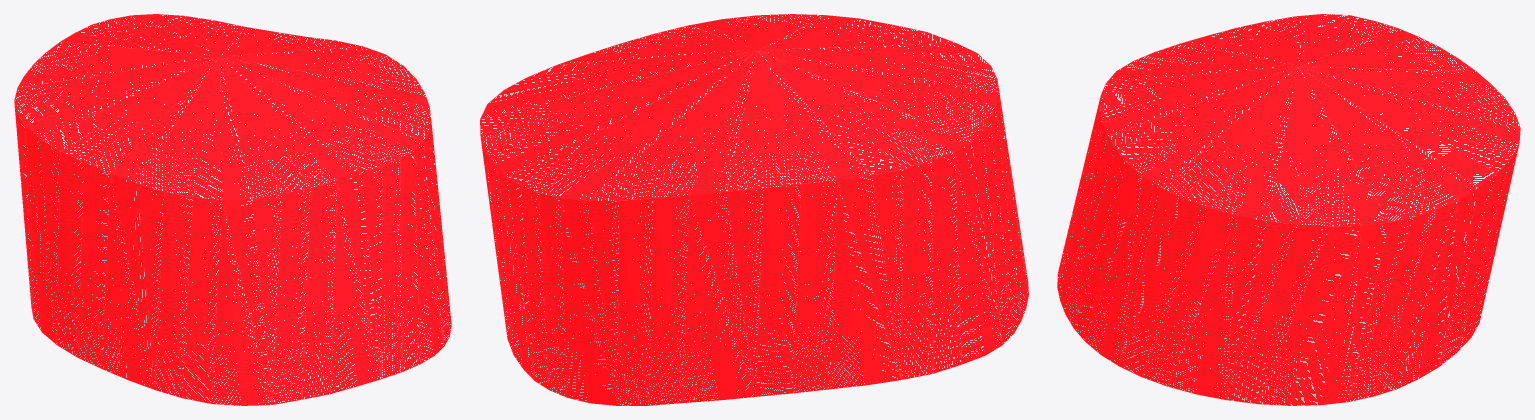
File: collision_dome.glb
3 views of the same model, side by side, from view 1: azimuth 30°, elevation 25°; view 2: azimuth 150°, elevation 25°; view 3: azimuth 270°, elevation 25° (orthographic). The views are drawn at different scales.
Visible parts, largest first — view 1: moon_level-colonly; view 2: moon_level-colonly; view 3: moon_level-colonly.
Boxes of the visible parts, x1,y1,x2,y2 form: moon_level-colonly: (14,14,451,405); moon_level-colonly: (480,14,1028,405); moon_level-colonly: (1057,14,1520,405).
Size of the model in its own units: 66.17 by 42.89 by 72.12.
Materials: 1 (1 with a texture image).
